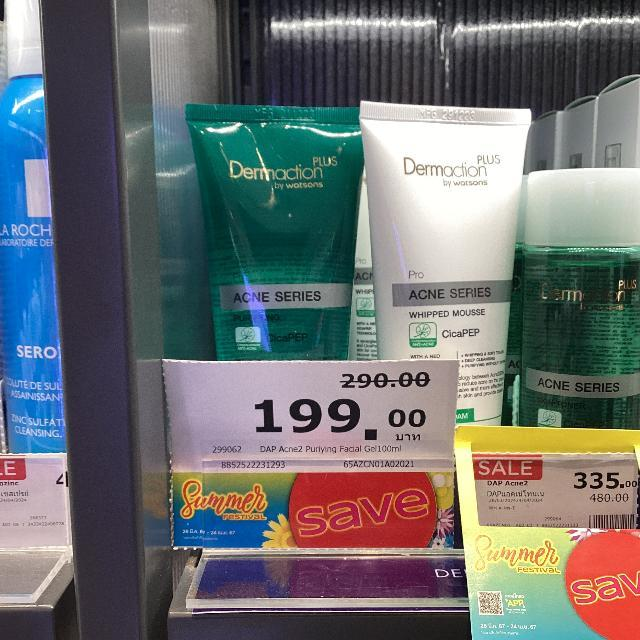Squeeze Tube: (157, 68, 539, 486), (354, 106, 533, 429), (186, 103, 360, 366)
